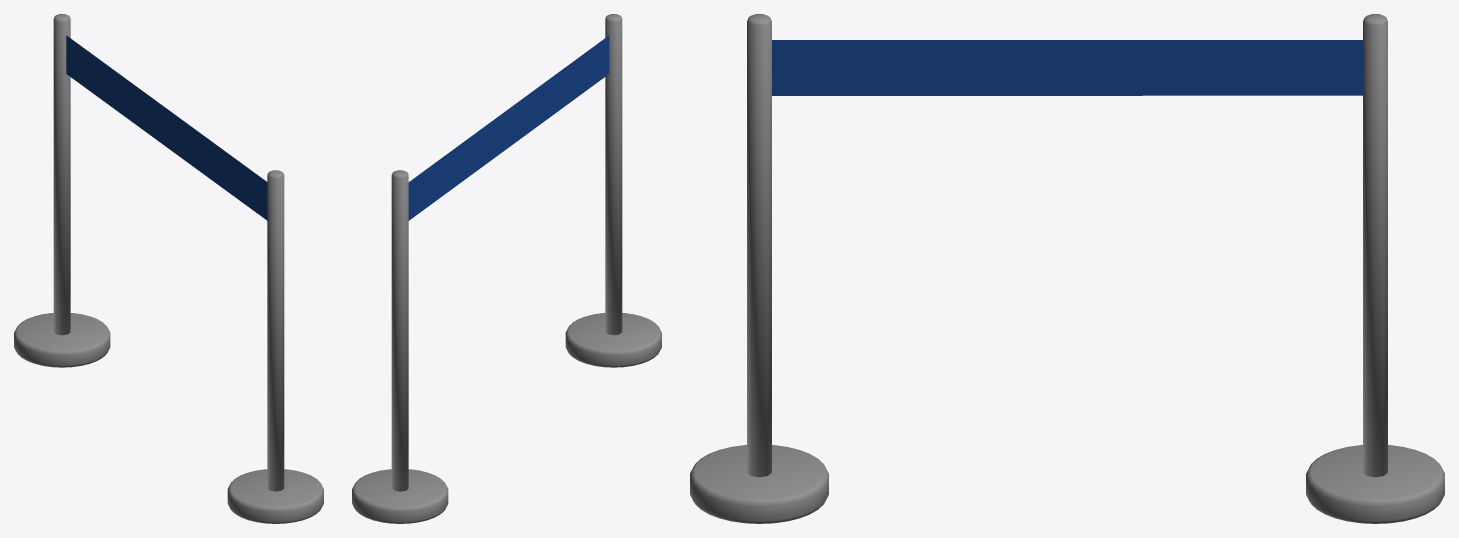
File: pinch-barrier-blue-narrow.gltf
The picture shows the model from 3 angles, left to right: view 1: azimuth 30°, elevation 25°; view 2: azimuth 150°, elevation 25°; view 3: azimuth 270°, elevation 25°; orthographic projection. The views are drawn at different scales.
Visible parts, largest first — view 1: pipe003 (×2), bottom004 (×2), Box2; view 2: pipe003 (×2), bottom004 (×2), Box2; view 3: Box2, pipe003 (×2), bottom004 (×2).
Part boxes in pixels (bbox=[...]): pipe003 (×2): bbox=[53, 14, 284, 491]; bottom004 (×2): bbox=[14, 313, 323, 523]; Box2: bbox=[66, 35, 267, 220]; pipe003 (×2): bbox=[391, 14, 622, 491]; bottom004 (×2): bbox=[352, 313, 661, 523]; Box2: bbox=[408, 35, 609, 220]; Box2: bbox=[772, 40, 1362, 95]; pipe003 (×2): bbox=[747, 14, 1387, 477]; bottom004 (×2): bbox=[690, 445, 1444, 523].
Size of what is drawn, in the model's own units: 0.2267 by 0.8582 by 1.23.
